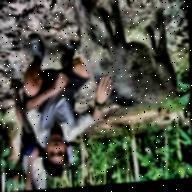boar: (67, 1, 190, 128)
